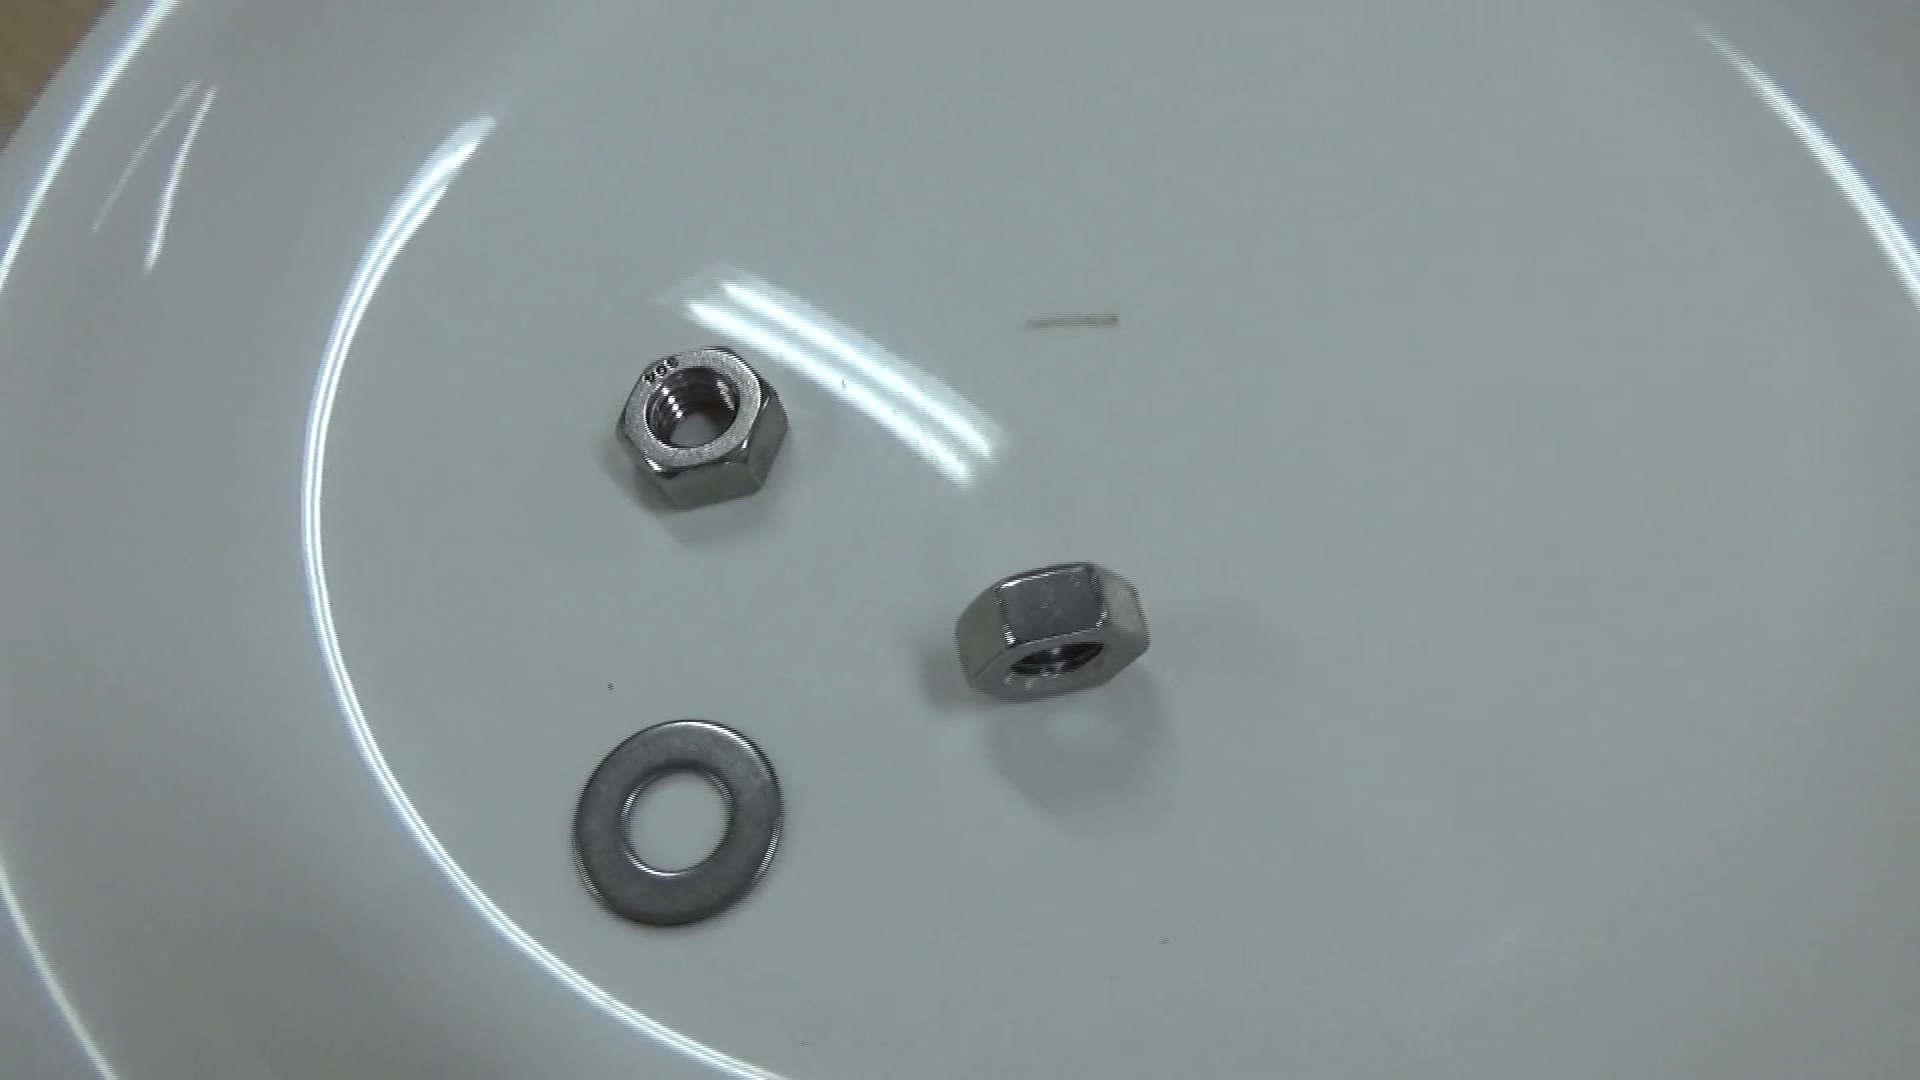nut: (603, 328, 798, 525), (939, 554, 1156, 709)
washer: (556, 699, 789, 949)
